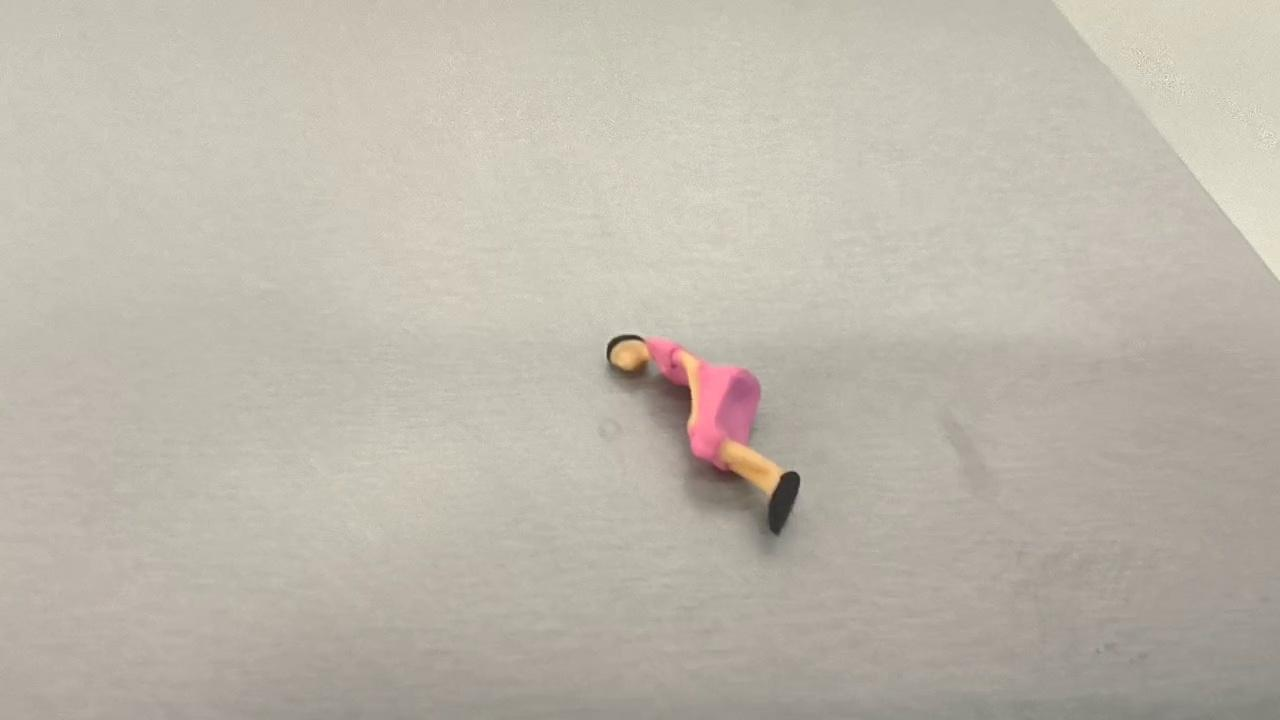human: (607, 334, 801, 535)
